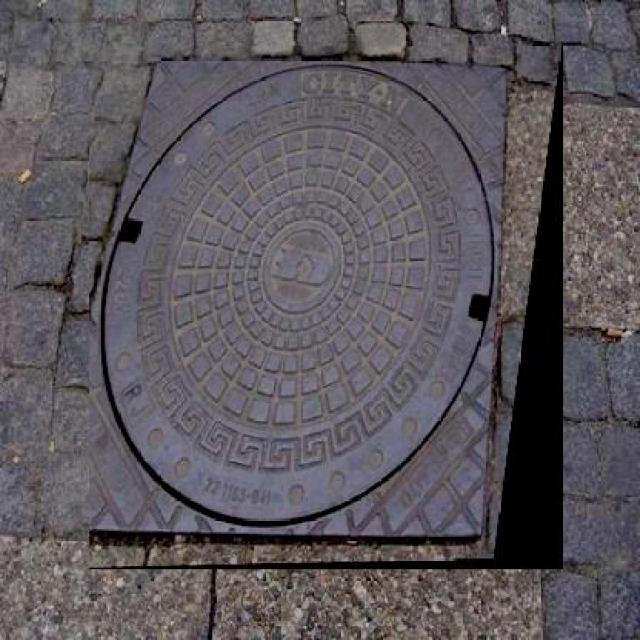Manhole: (90, 46, 564, 569)
